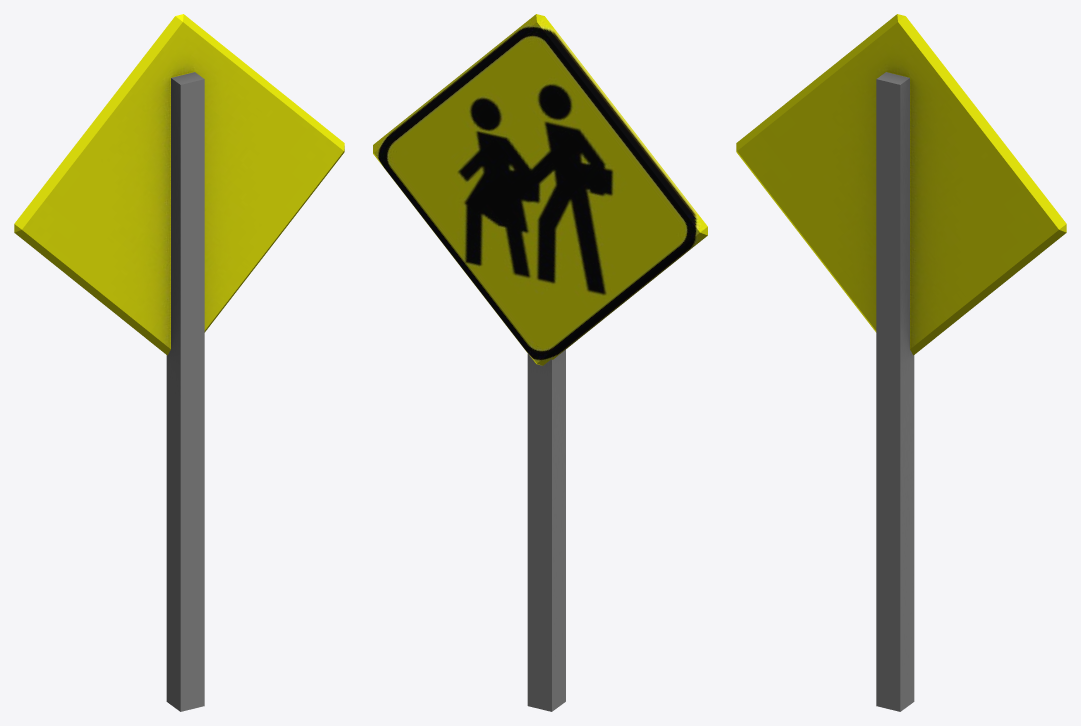
File: schoolSignal.glb
The picture shows the model from 3 angles, left to right: view 1: azimuth 30°, elevation 25°; view 2: azimuth 150°, elevation 25°; view 3: azimuth 330°, elevation 25°; orthographic projection.
Parts seen in each view (by area): view 1: Plane; view 2: Plane; view 3: Plane.
Boxes of the visible parts, <box> form: Plane: <box>14,14,344,711</box>; Plane: <box>373,14,707,711</box>; Plane: <box>736,14,1066,711</box>.
Bounding box in the file's own units: 2.76 × 5.46 × 0.2391.
2 materials, 2 textured.
